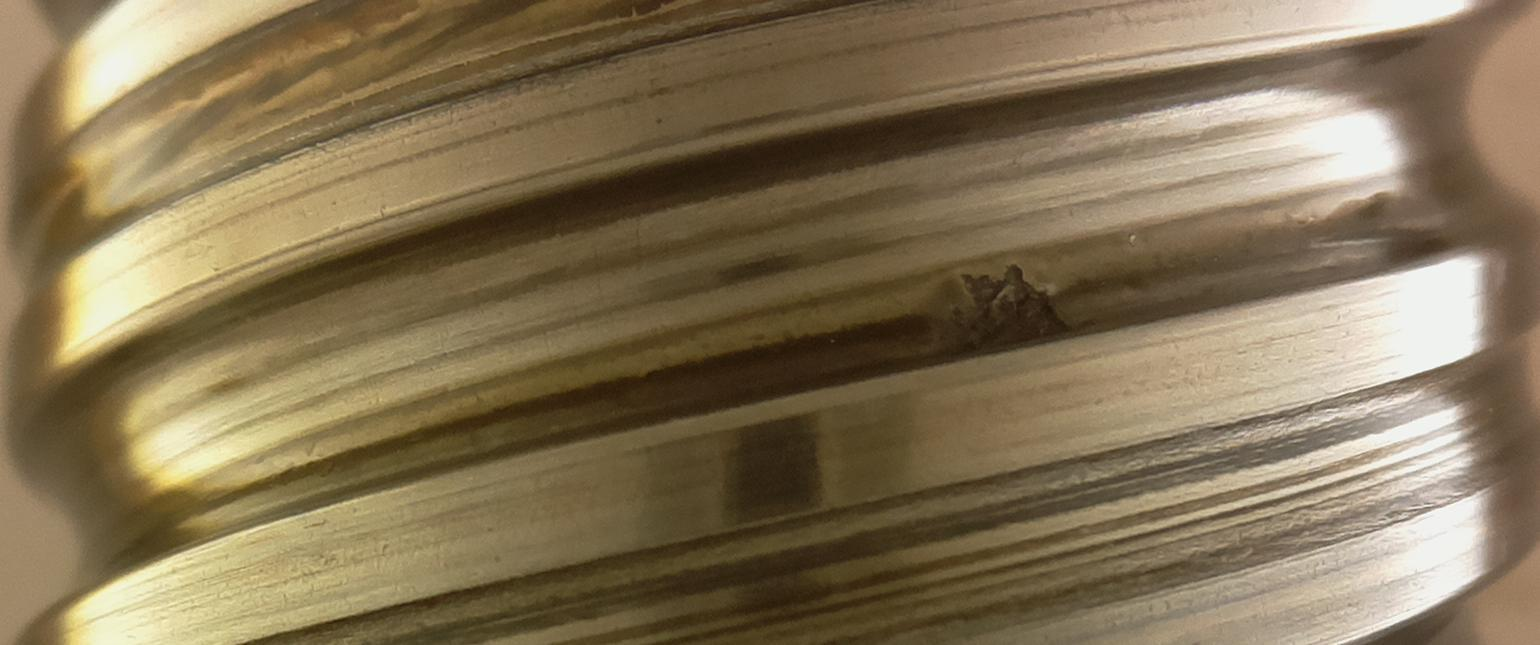pitting: (952, 264, 1072, 349)
